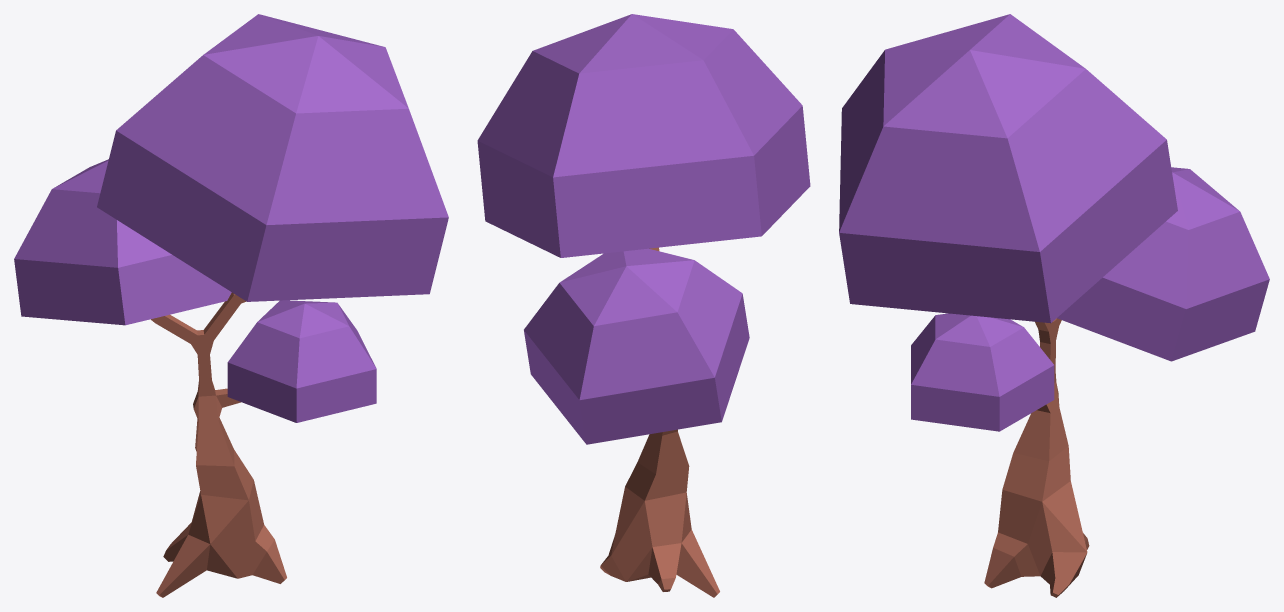
File: tree_2.fbx
3 renders of one model, left to right at view 1: azimuth 30°, elevation 25°; view 2: azimuth 150°, elevation 25°; view 3: azimuth 270°, elevation 25°, orthographic. The views are drawn at different scales.
Parts seen in each view (by area): view 1: Plane.025; view 2: Plane.025; view 3: Plane.025.
Boxes of the visible parts, x1,y1,x2,y2 form: Plane.025: (14, 14, 448, 597); Plane.025: (477, 14, 810, 597); Plane.025: (839, 14, 1269, 597).
Size of the model in its own units: 348 by 573 by 399.
